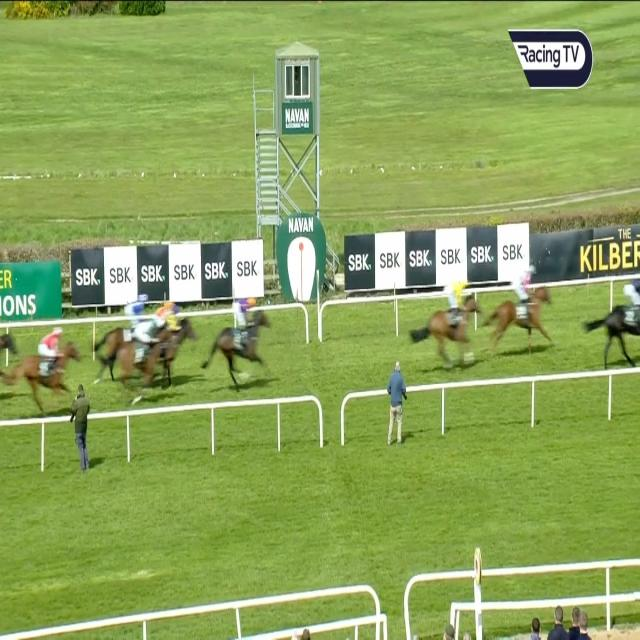horses-racing: (420, 276, 478, 378), (214, 297, 275, 389), (494, 256, 552, 350), (13, 327, 80, 406), (597, 272, 640, 360), (116, 318, 162, 392), (99, 298, 154, 342), (164, 305, 194, 379)
